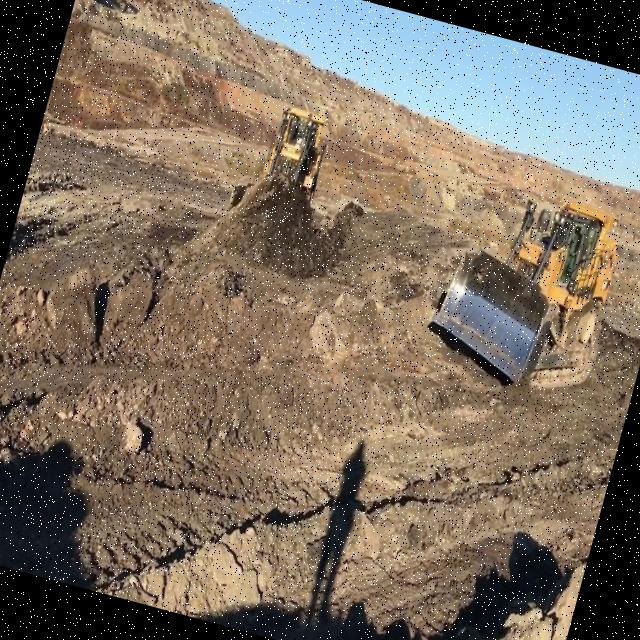Loader: (417, 172, 634, 405), (226, 95, 340, 236)
